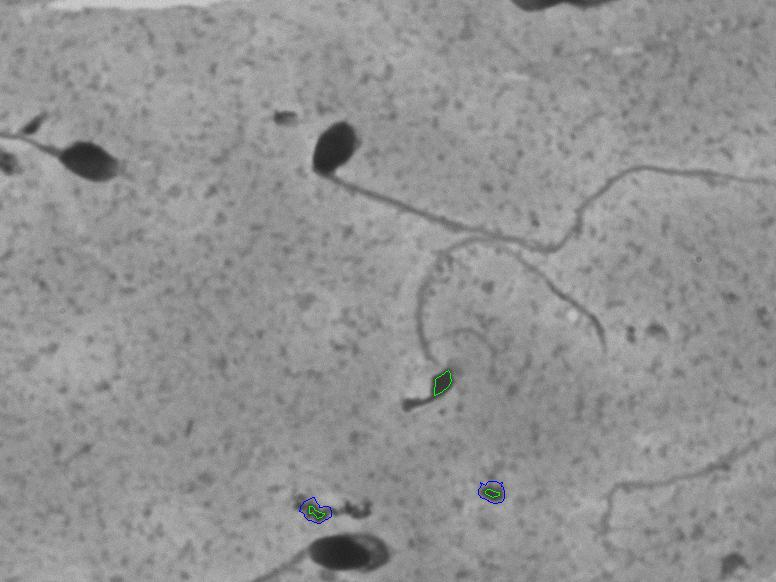Abnormal: (286, 107, 771, 266)
